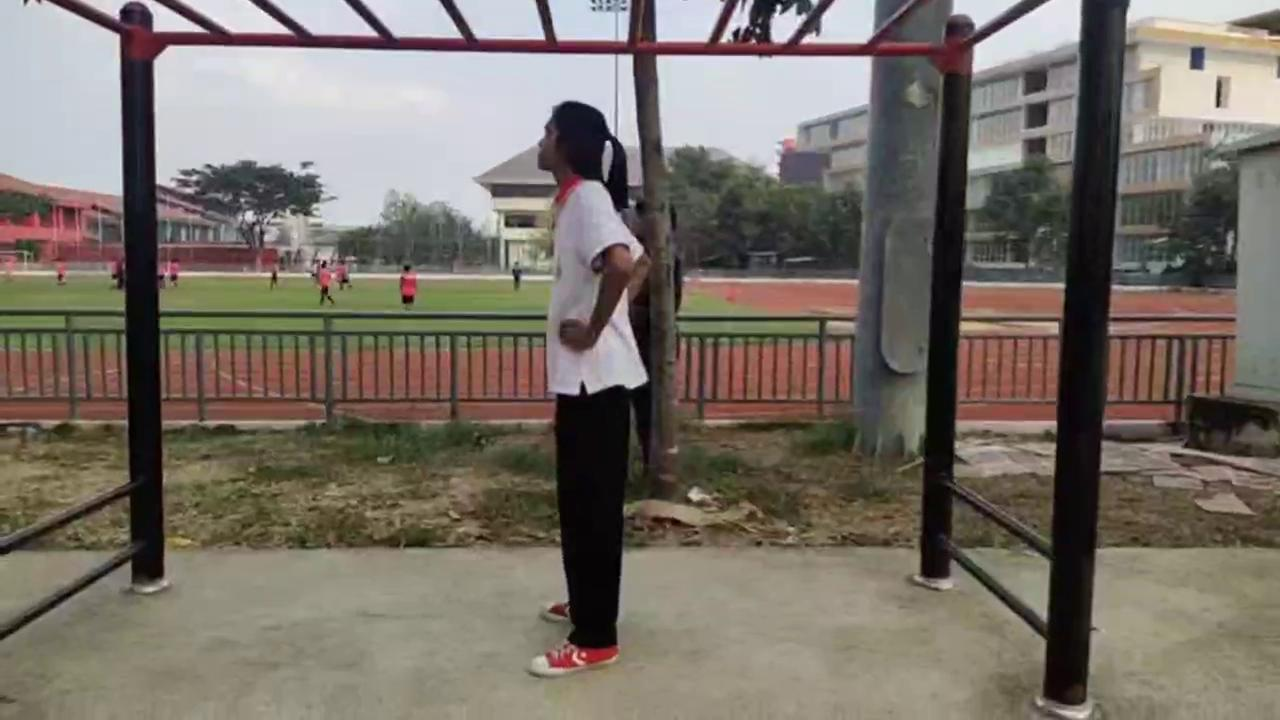squat up: (525, 104, 657, 677)
